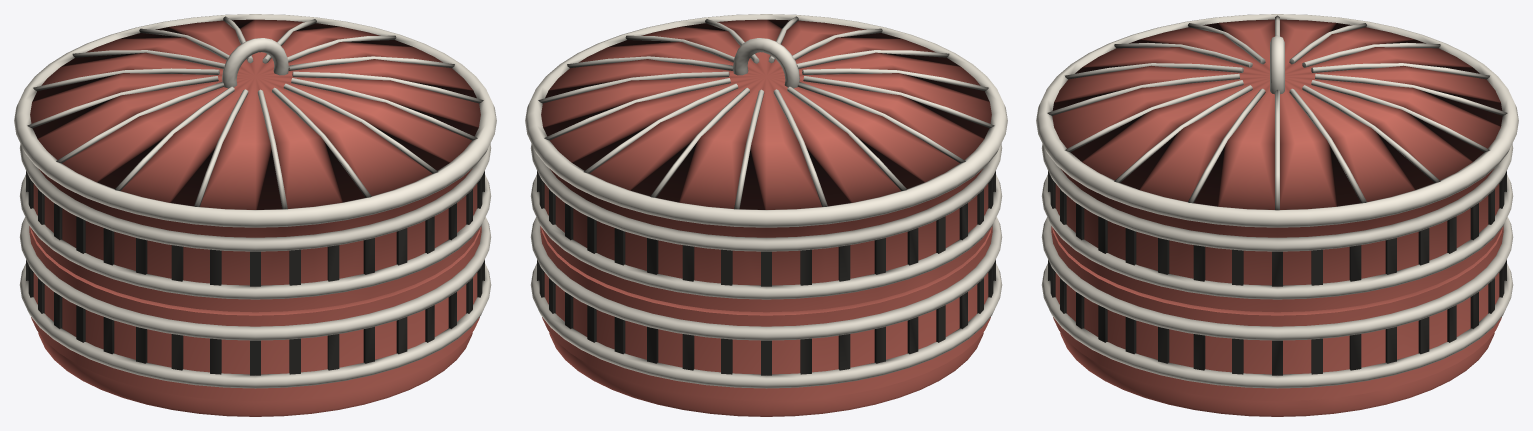
Rendered from kit_steamer.glb.
3 renders of one model, left to right at view 1: azimuth 30°, elevation 25°; view 2: azimuth 150°, elevation 25°; view 3: azimuth 270°, elevation 25°, orthographic.
Visible parts, largest first — view 1: PART, LID; view 2: PART, LID; view 3: PART, LID.
Part boxes in pixels (box(x1,y1,x2,y2)): PART: box(19, 144, 491, 416); LID: box(14, 14, 496, 227); PART: box(530, 144, 1002, 416); LID: box(525, 14, 1007, 227); PART: box(1041, 144, 1513, 416); LID: box(1036, 14, 1518, 227).
Size of the model in its own units: 0.256 by 0.168 by 0.256.
